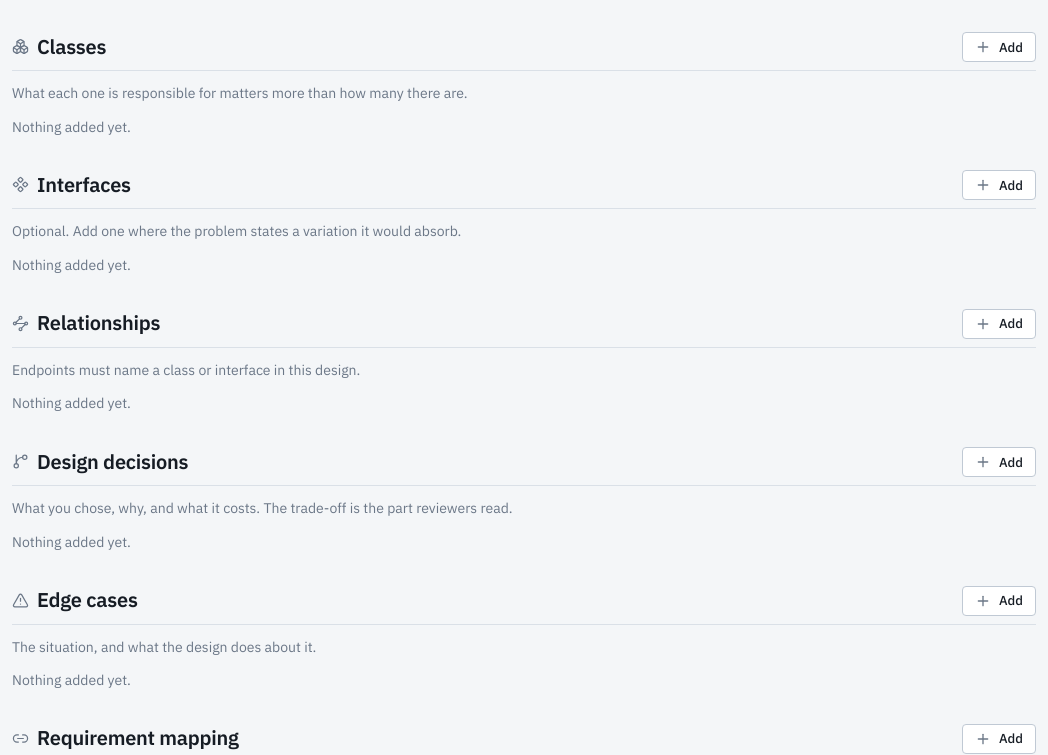
Test case: the design editor › adds a class and reports the change upward
Click the button "Add" in the row of "Classes": coordinates (999, 47) x1=962 y1=32 x2=1036 y2=62
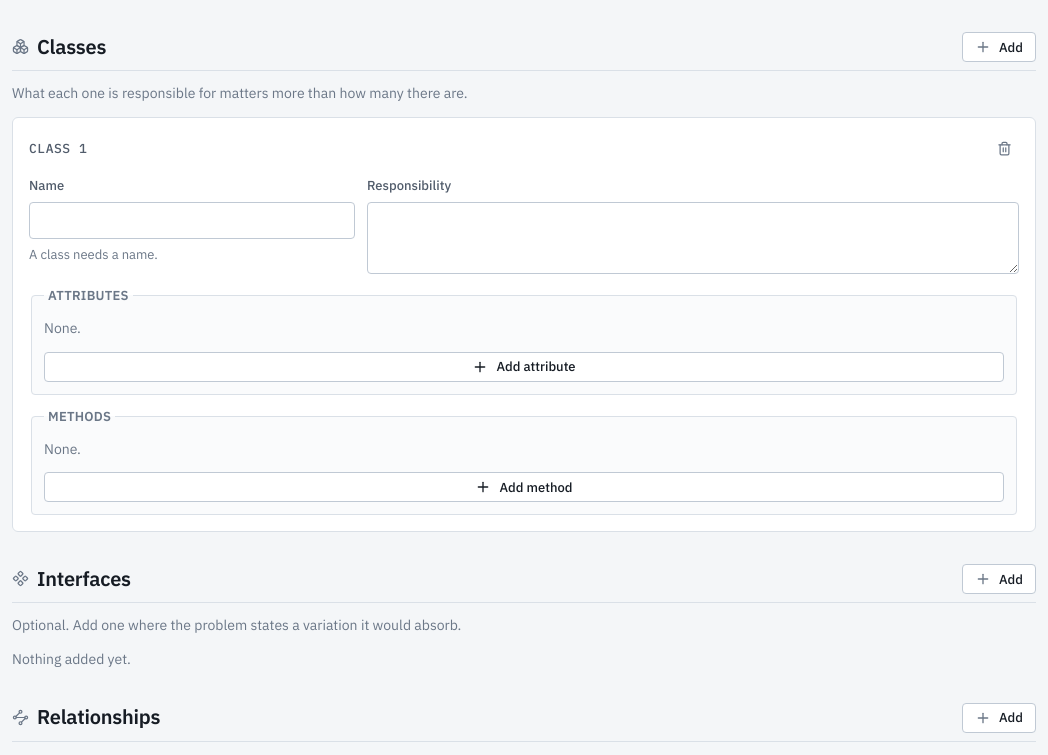
Check: the field named "Class 1 name" is shown, box x1=29 y1=202 x2=355 y2=239
